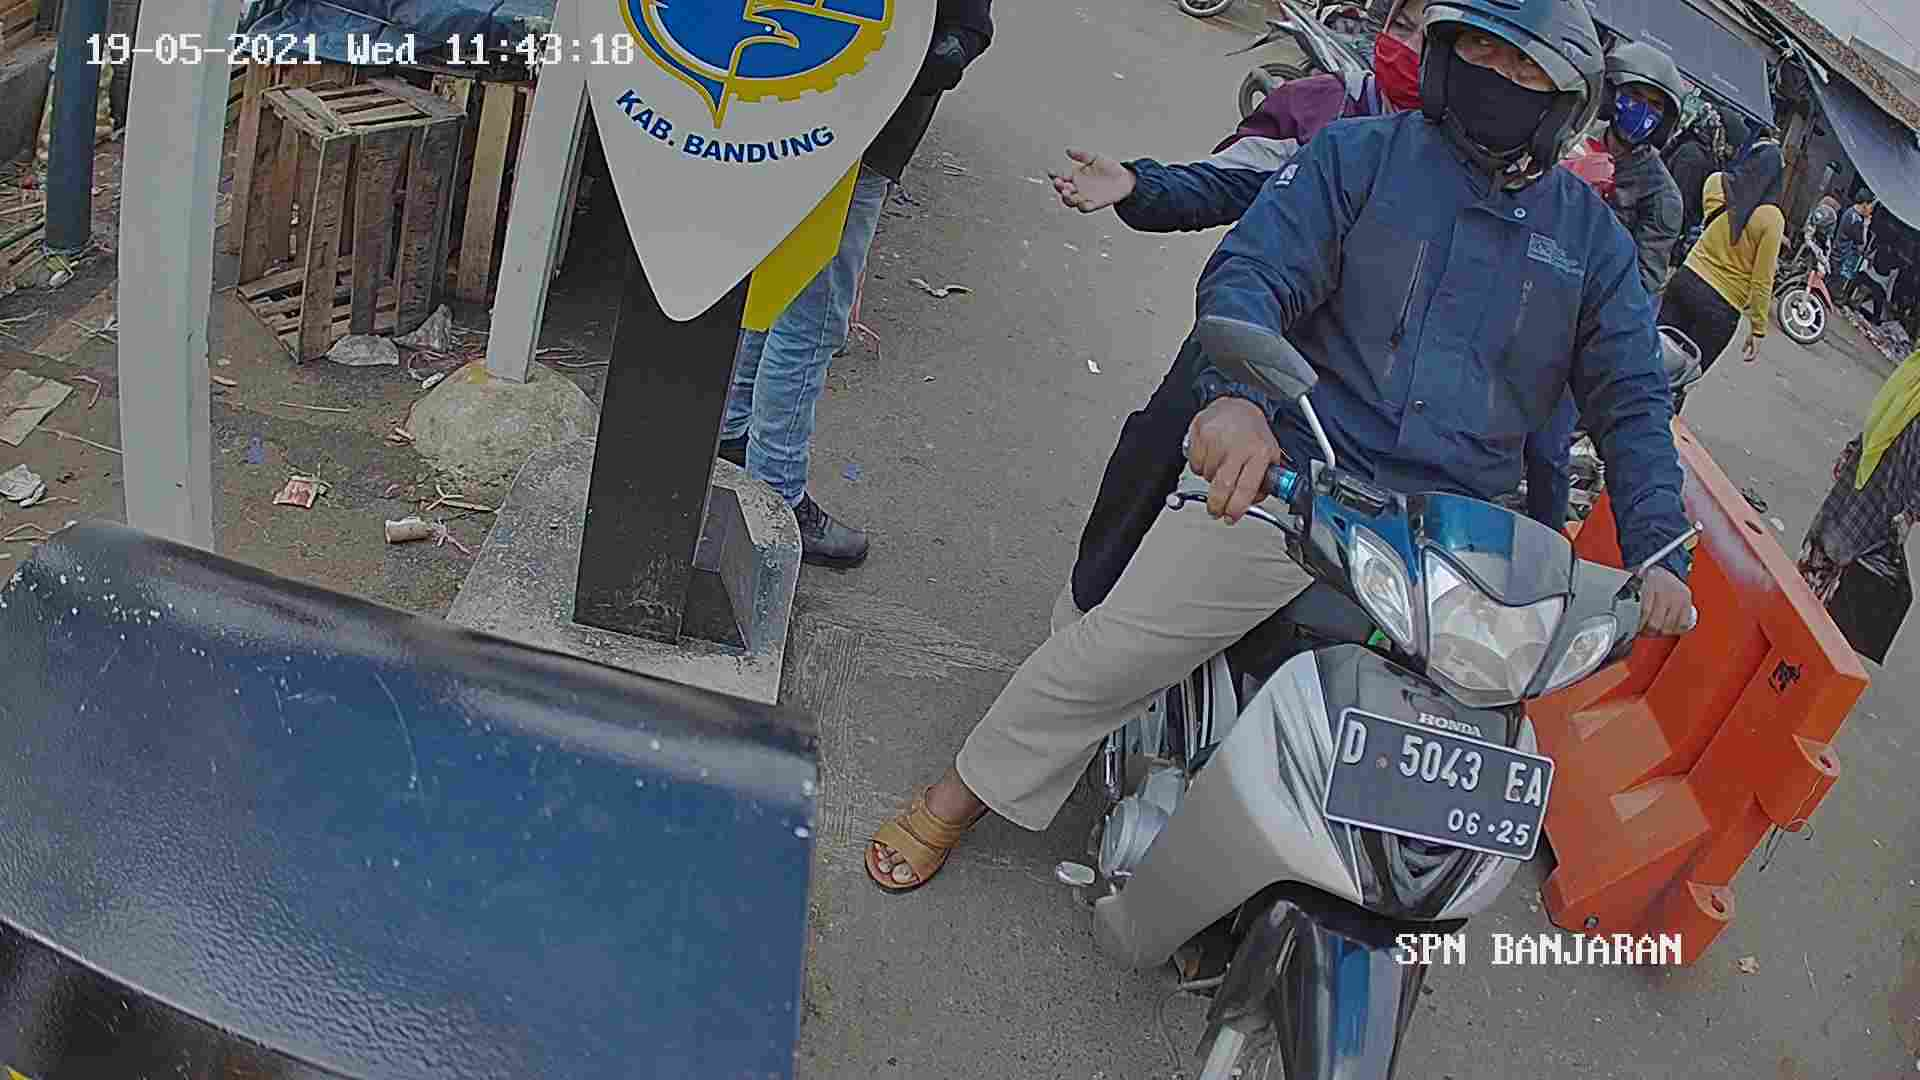motor: (1073, 367, 1619, 1080)
